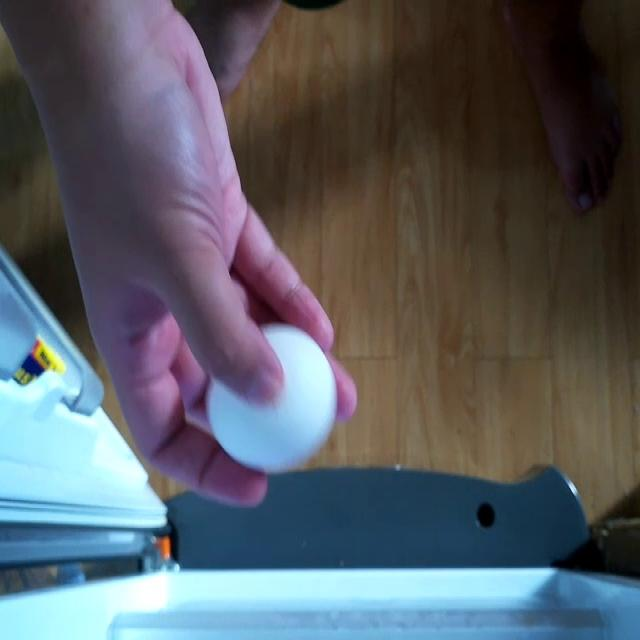egg: (202, 316, 342, 474)
